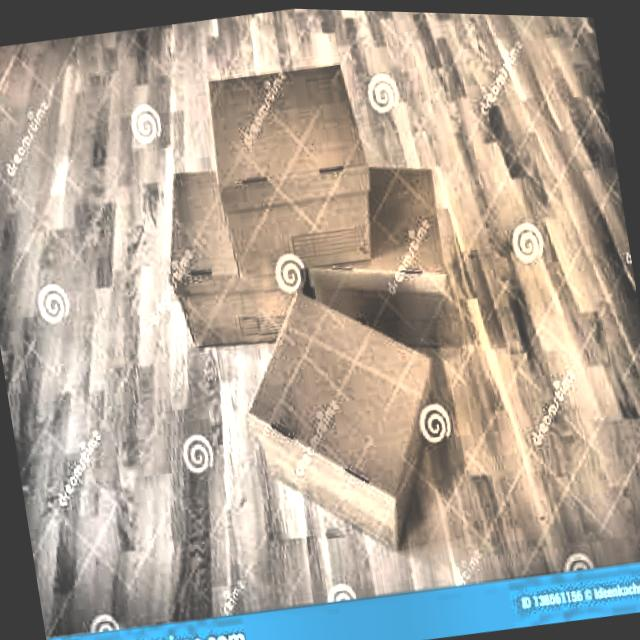Cardbox: (222, 258, 462, 570), (186, 31, 393, 288), (144, 128, 342, 395), (276, 145, 464, 364)
